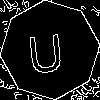U: (25, 25, 65, 74)
